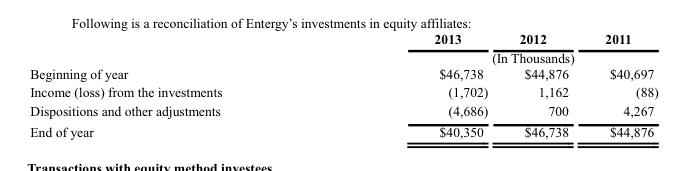table: (29, 29, 657, 139)
table column: (29, 29, 327, 139), (327, 29, 503, 139), (503, 29, 586, 139), (586, 29, 657, 139)
table column header: (29, 29, 657, 64)
table row: (29, 100, 657, 120), (29, 120, 657, 139), (29, 29, 657, 47), (29, 64, 657, 82), (29, 82, 657, 100), (29, 47, 657, 64)
table spanning cell: (327, 47, 657, 64)
